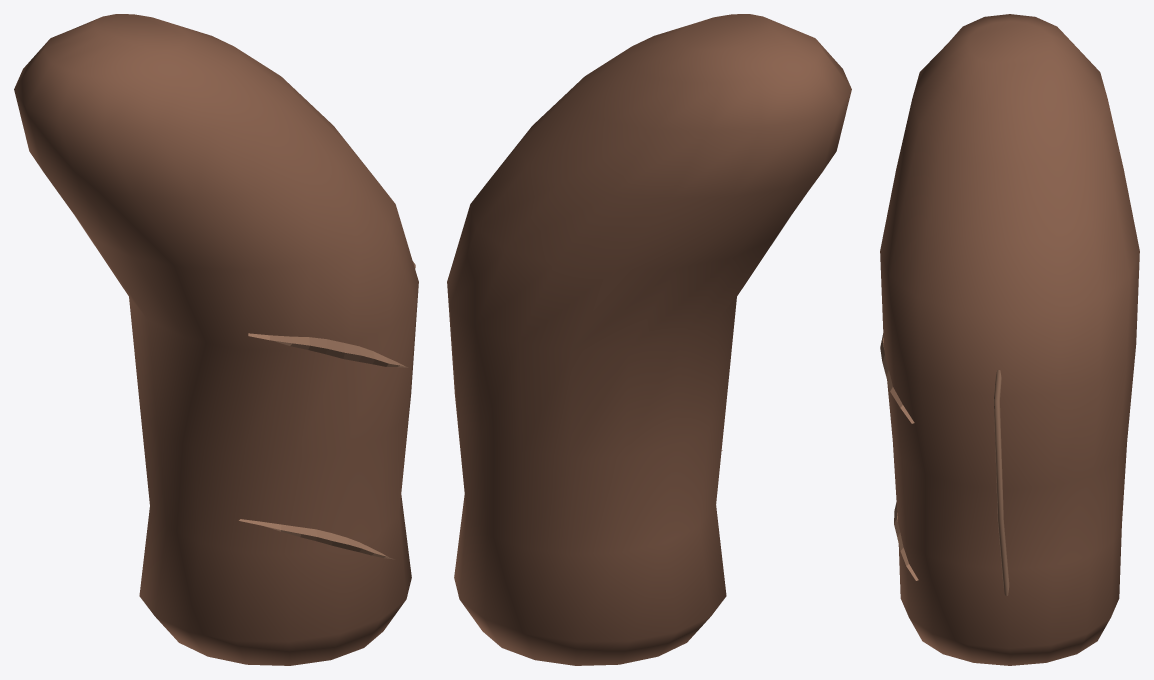
File: AdaUpperR.glb
The picture shows the model from 3 angles, left to right: view 1: azimuth 30°, elevation 25°; view 2: azimuth 150°, elevation 25°; view 3: azimuth 270°, elevation 25°; orthographic projection. The views are drawn at different scales.
Parts seen in each view (by area): view 1: AdaUpperR; view 2: AdaUpperR; view 3: AdaUpperR.
Part boxes in pixels (x1,y1,x2,y2): AdaUpperR: (14,14,418,665); AdaUpperR: (447,14,851,665); AdaUpperR: (880,14,1139,665).
Bounding box in the file's own units: 0.284 × 0.4458 × 0.1973.
